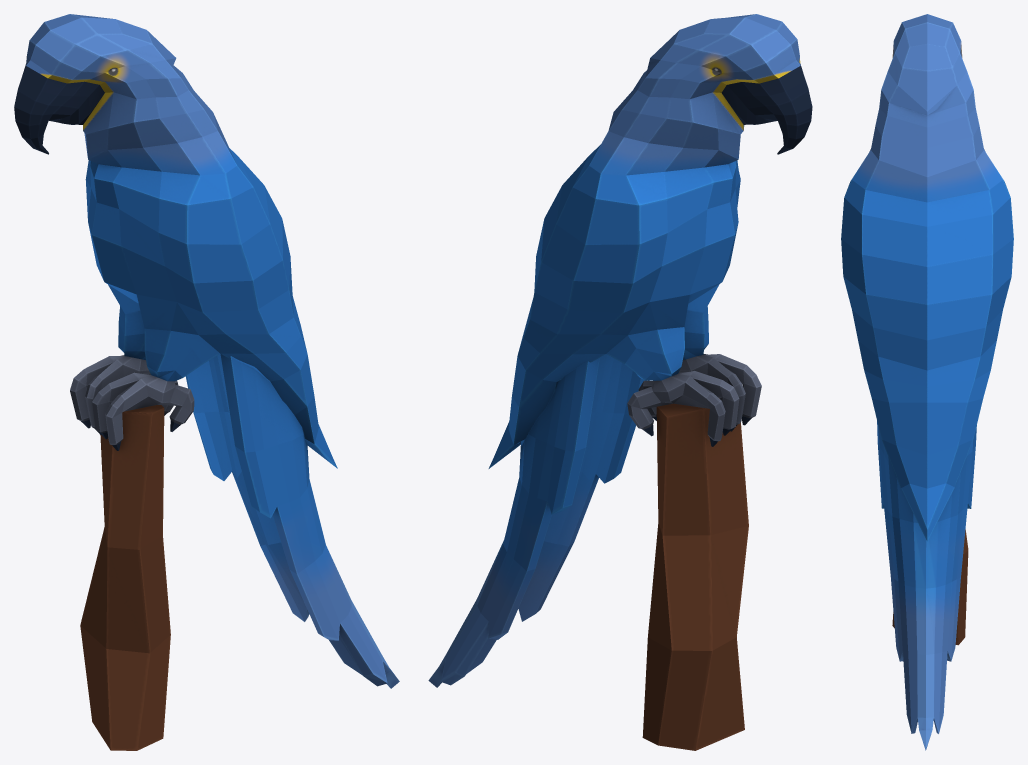
File: bbf170c2-502a-42a1-9316-806fd15e52e4.glb
The picture shows the model from 3 angles, left to right: view 1: azimuth 30°, elevation 25°; view 2: azimuth 150°, elevation 25°; view 3: azimuth 270°, elevation 25°; orthographic projection. The views are drawn at different scales.
Visible parts, largest first — view 1: HyancinthMacaw_mesh; view 2: HyancinthMacaw_mesh; view 3: HyancinthMacaw_mesh.
Part boxes in pixels (x1=…): HyancinthMacaw_mesh: x1=14, y1=14, x2=399, y2=750; HyancinthMacaw_mesh: x1=428, y1=14, x2=812, y2=750; HyancinthMacaw_mesh: x1=841, y1=14, x2=1013, y2=750.
Bounding box in the file's own units: 5.79 × 10.74 × 2.77.
Materials: 1 (1 with a texture image).
